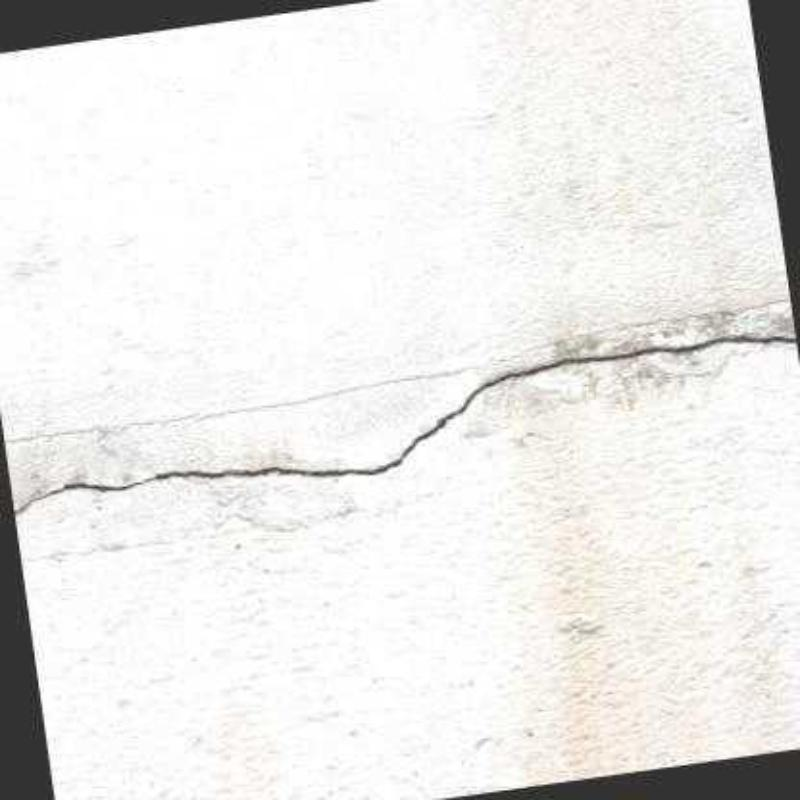crack: (15, 335, 796, 515), (4, 294, 792, 446), (19, 538, 163, 562), (215, 513, 304, 533)
